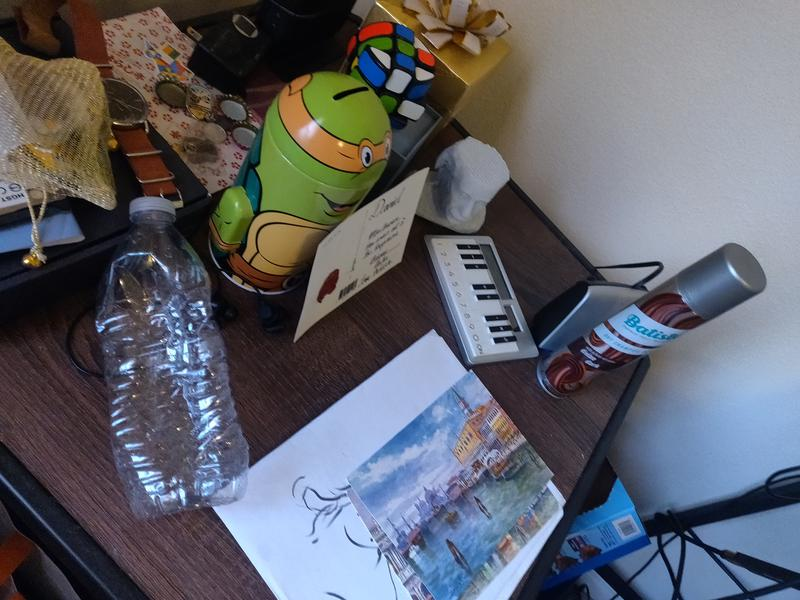bottle: (91, 195, 252, 523)
